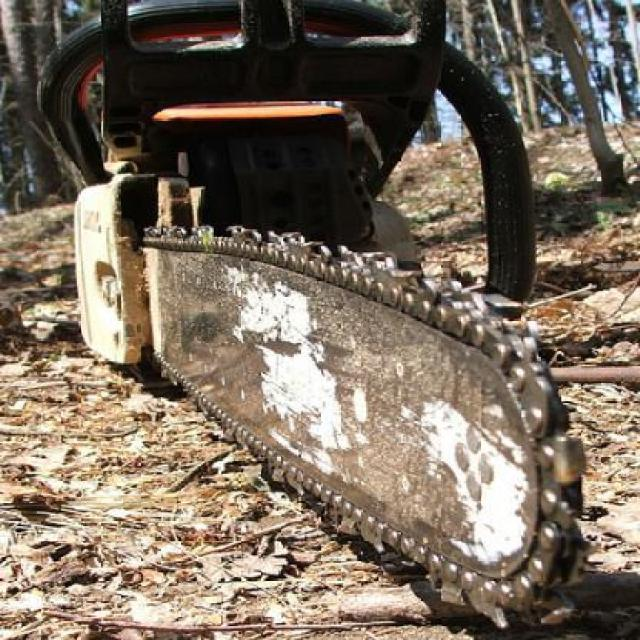Chainsaw: (37, 0, 591, 631)
